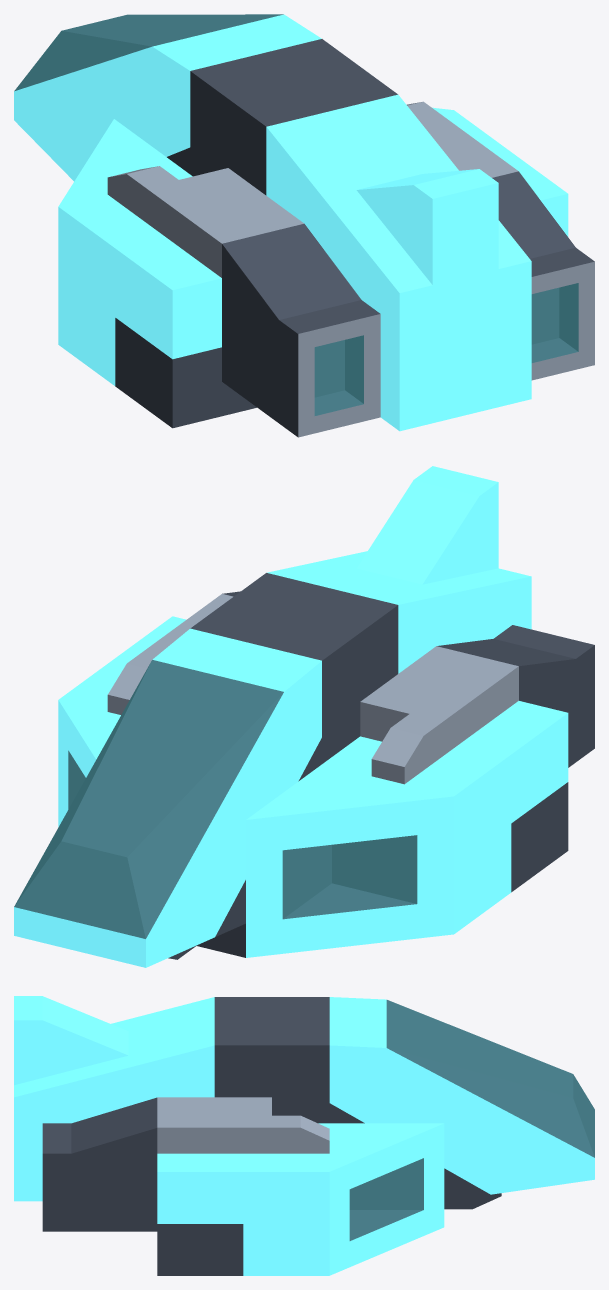
The model's file is craft_racer.glb.
3 renders of one model, top to bottom at view 1: azimuth 30°, elevation 25°; view 2: azimuth 150°, elevation 25°; view 3: azimuth 270°, elevation 25°, orthographic. The views are drawn at different scales.
Visible parts, largest first — view 1: craft_racer; view 2: craft_racer; view 3: craft_racer.
Boxes of the visible parts, box(x1,y1,x2,y2) form: craft_racer: box(14, 14, 594, 437); craft_racer: box(14, 466, 594, 967); craft_racer: box(14, 996, 594, 1275).
Size of the model in its own units: 1.2 by 0.75 by 2.03.
